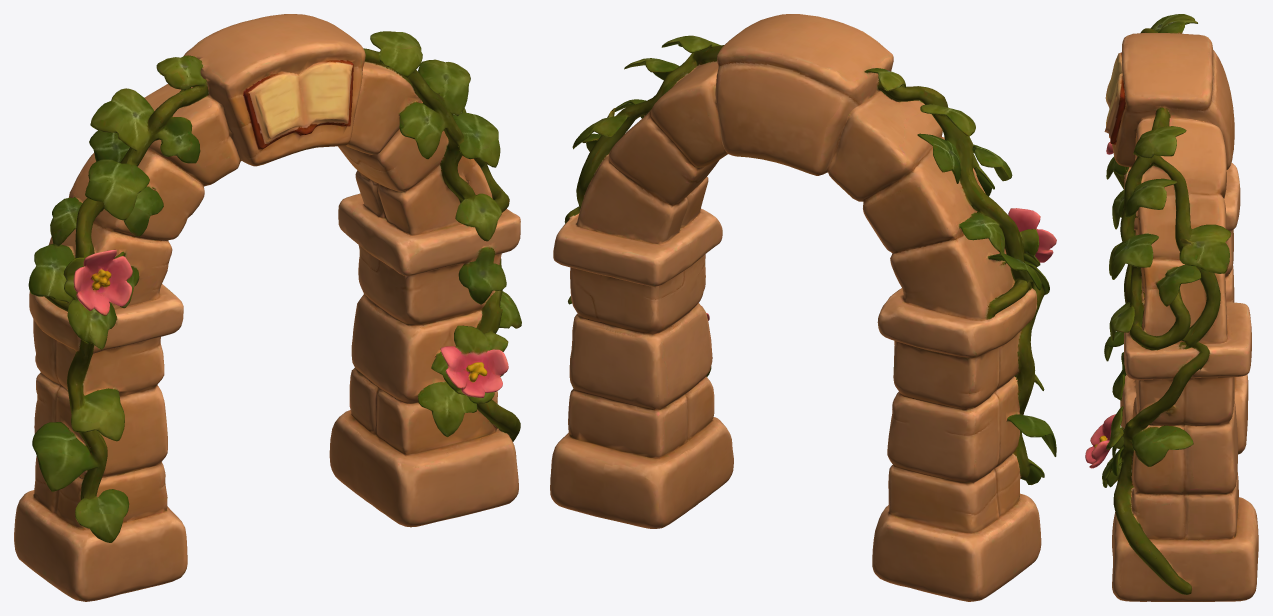
File: storybook-reading-arch.glb
3 renders of one model, left to right at view 1: azimuth 30°, elevation 25°; view 2: azimuth 150°, elevation 25°; view 3: azimuth 270°, elevation 25°, orthographic. The views are drawn at different scales.
Bounding box in the file's own units: 0.9982 × 0.9986 × 0.34.
1 material, 1 textured.
